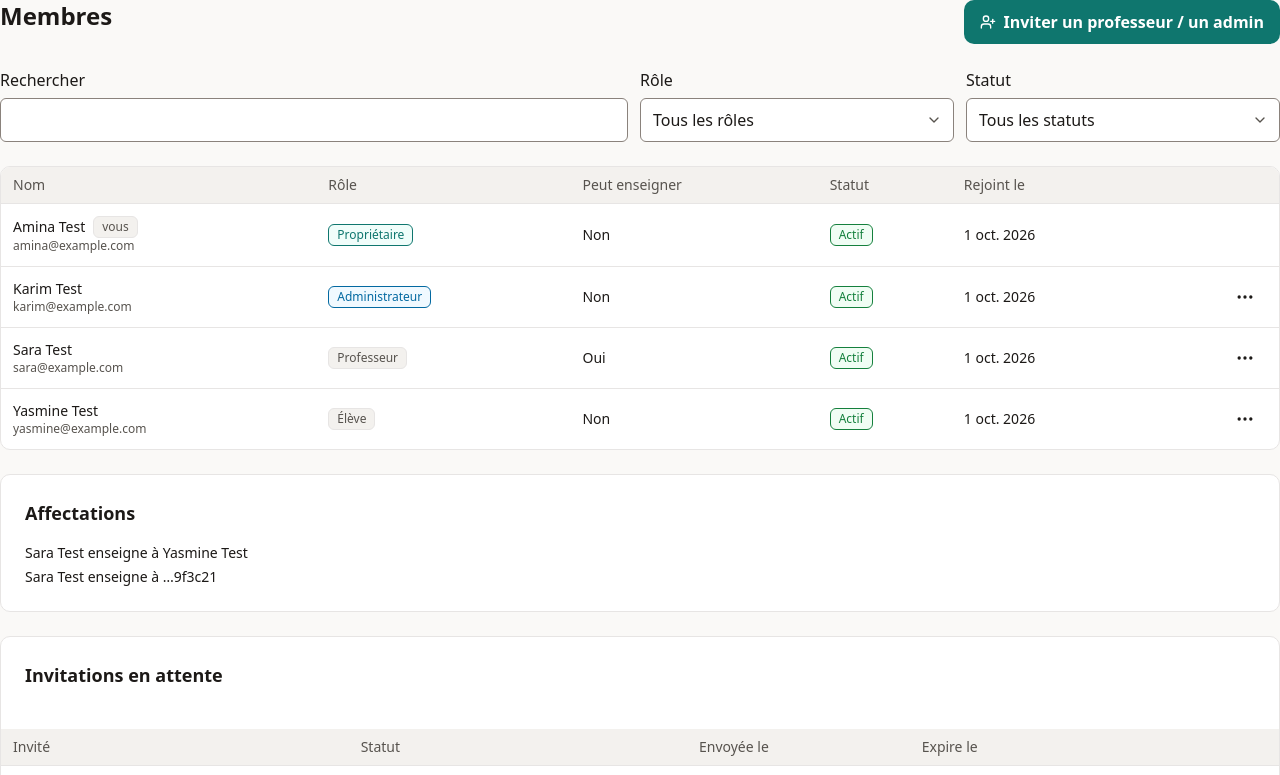
Test: MembersPanel › returns focus to the row menu button when the removal is cancelled
Click the button named "Actions pour Sara Test" at [1245, 358], box x1=1223 y1=336 x2=1267 y2=380
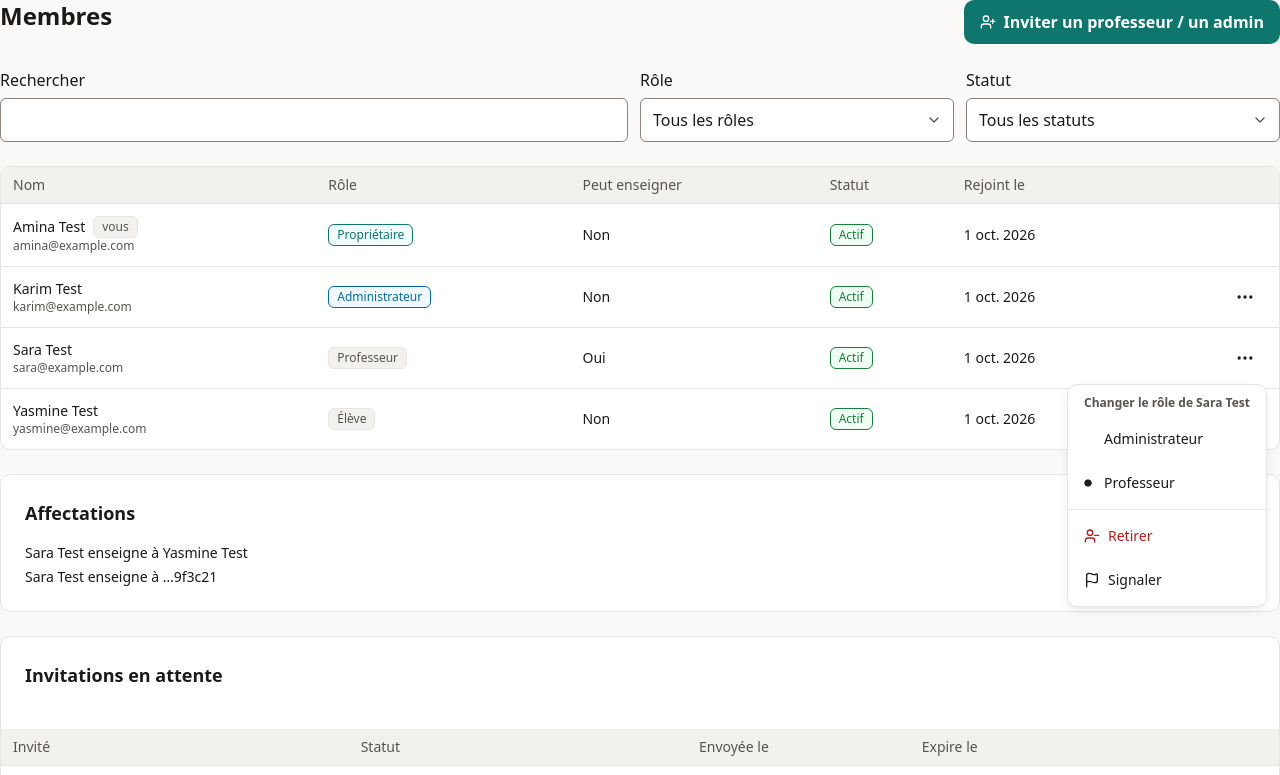
Click the menu item "Retirer" at [1118, 536], box x1=1084 y1=526 x2=1152 y2=545
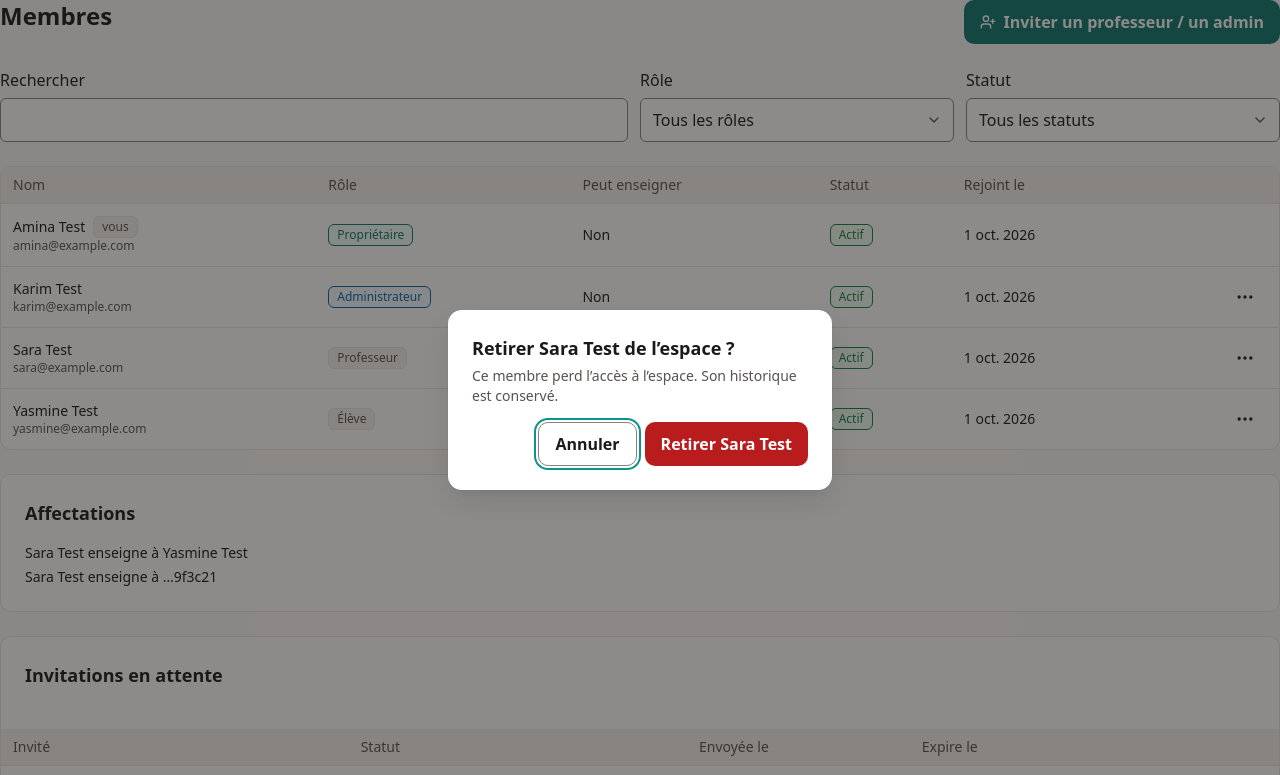
Click the button "Annuler" at [588, 444], box x1=538 y1=422 x2=637 y2=466
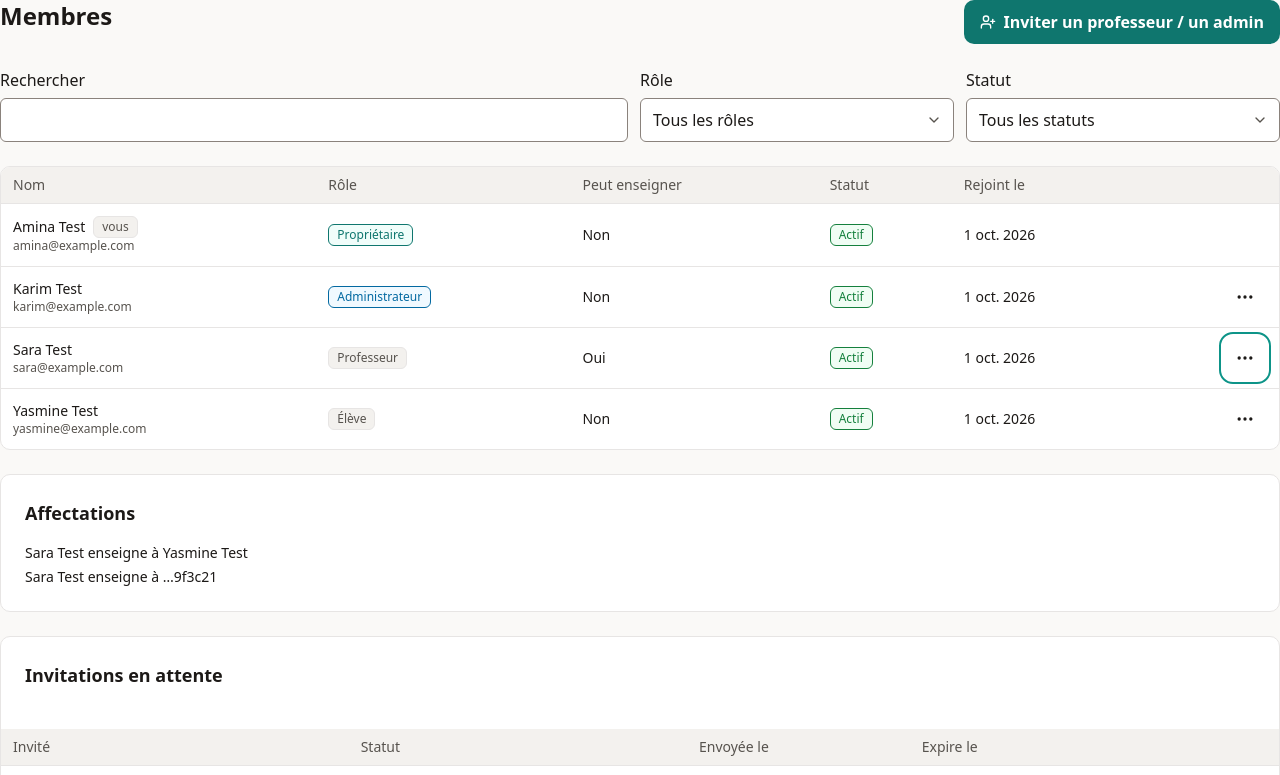
Expected: the dialog is gone
